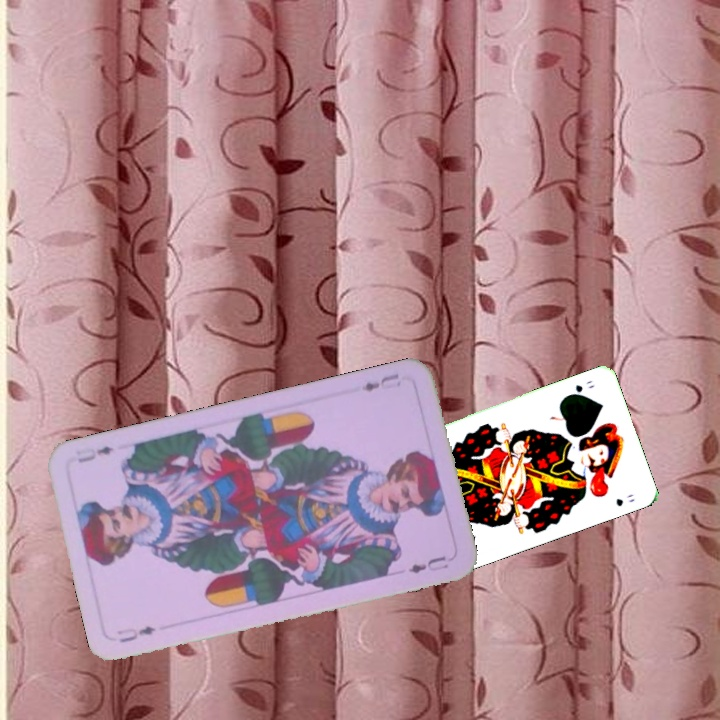EU: (357, 369, 402, 394), (113, 622, 158, 645)
GO: (563, 376, 597, 399)
